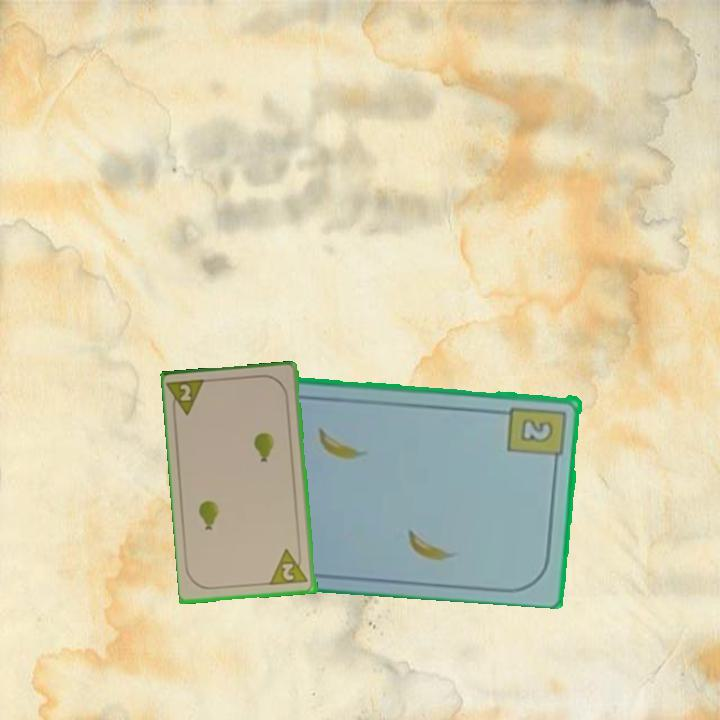2b: (505, 402, 569, 467)
2p: (166, 376, 210, 420), (268, 545, 311, 588)
